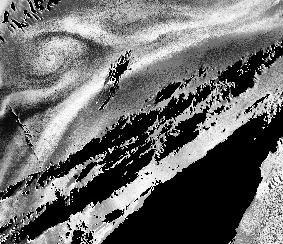CE: (17, 18, 90, 80)
